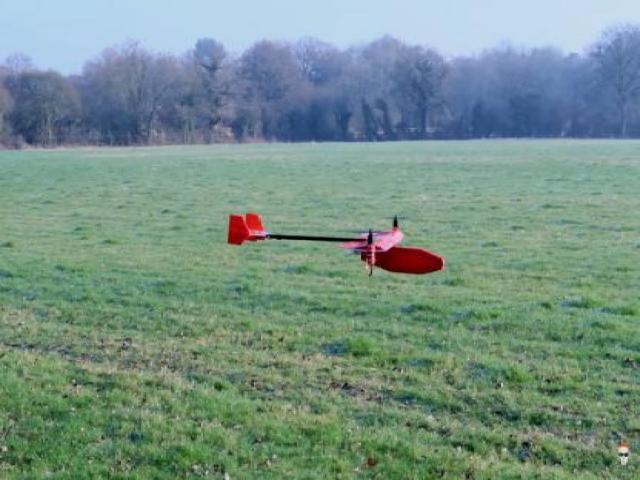uav: (227, 203, 456, 274)
